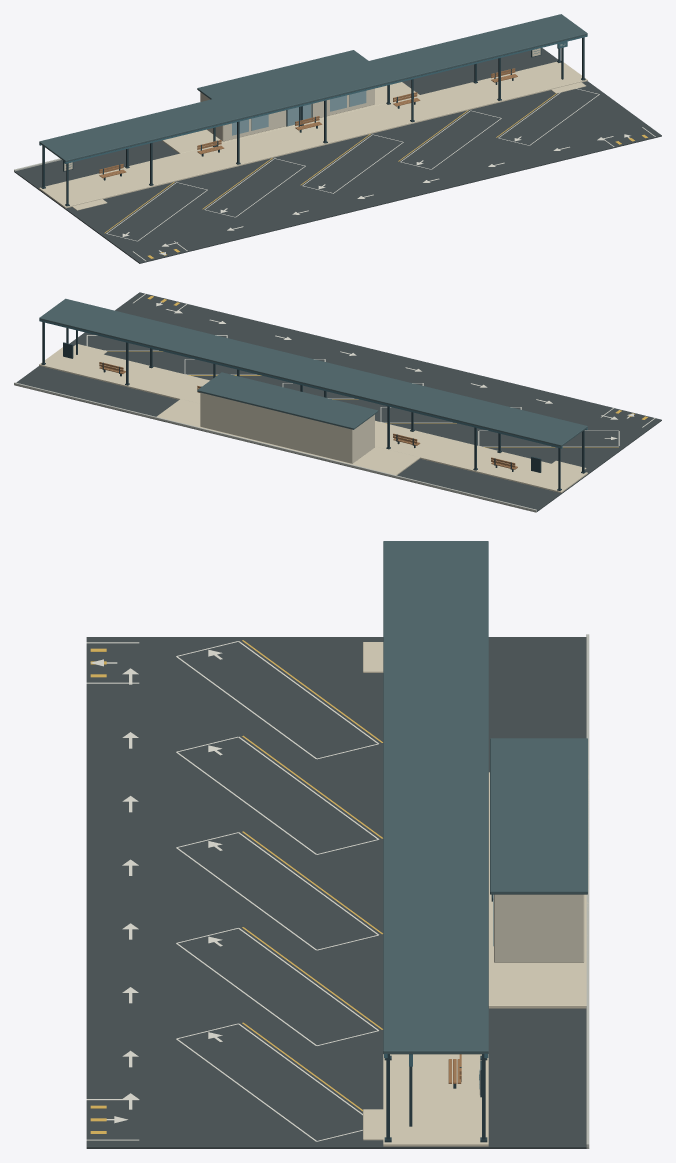
The model's file is bus-station-01-v2.glb.
3 views of the same model, one above another, from view 1: azimuth 30°, elevation 25°; view 2: azimuth 150°, elevation 25°; view 3: azimuth 270°, elevation 25° (orthographic). The views are drawn at different scales.
Parts seen in each view (by area): view 1: StationApron48x20, WholePlatformCanopy, FullRearWaitingPlatform, WaitingRoomRoof, RearLobbyPaving, WaitingRoomBody, CanopyLongBeam; view 2: StationApron48x20, WholePlatformCanopy, FullRearWaitingPlatform, WaitingRoomBody, WaitingRoomRoof, RearLobbyPaving, RearBoundaryKerb, CanopyLongBeam.001; view 3: StationApron48x20, WholePlatformCanopy, WaitingRoomRoof, FullRearWaitingPlatform, WaitingRoomBody, RearLobbyPaving, RearBoundaryKerb.
Part boxes in pixels (x1,y1,x2,y2): StationApron48x20: (14,48,661,263); WholePlatformCanopy: (39,14,587,162); FullRearWaitingPlatform: (39,61,587,208); WaitingRoomRoof: (197,50,368,99); RearLobbyPaving: (162,82,419,153); WaitingRoomBody: (200,88,374,141); CanopyLongBeam: (64,35,587,163); StationApron48x20: (15,292,661,511); WholePlatformCanopy: (39,298,587,446); FullRearWaitingPlatform: (39,347,587,492); WaitingRoomBody: (200,392,374,463); WaitingRoomRoof: (197,372,378,429); RearLobbyPaving: (156,399,419,475); RearBoundaryKerb: (14,382,536,512); CanopyLongBeam.001: (39,319,562,448); StationApron48x20: (86,637,587,1148); WholePlatformCanopy: (383,541,488,1054); WaitingRoomRoof: (490,738,587,894); FullRearWaitingPlatform: (383,1054,488,1146); WaitingRoomBody: (494,894,584,962); RearLobbyPaving: (488,772,588,1008); RearBoundaryKerb: (586,634,589,1148).
Size of the model in its own units: 48 by 4.31 by 20.
